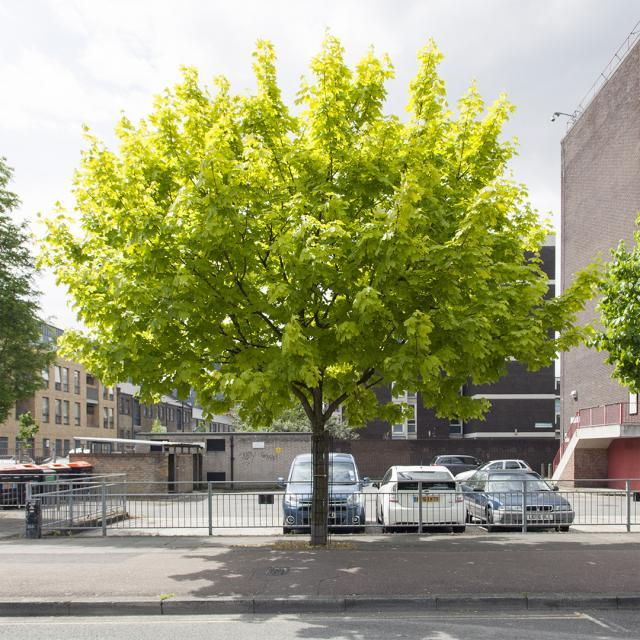Tree: (64, 46, 574, 539), (1, 132, 58, 538), (591, 195, 640, 447)
